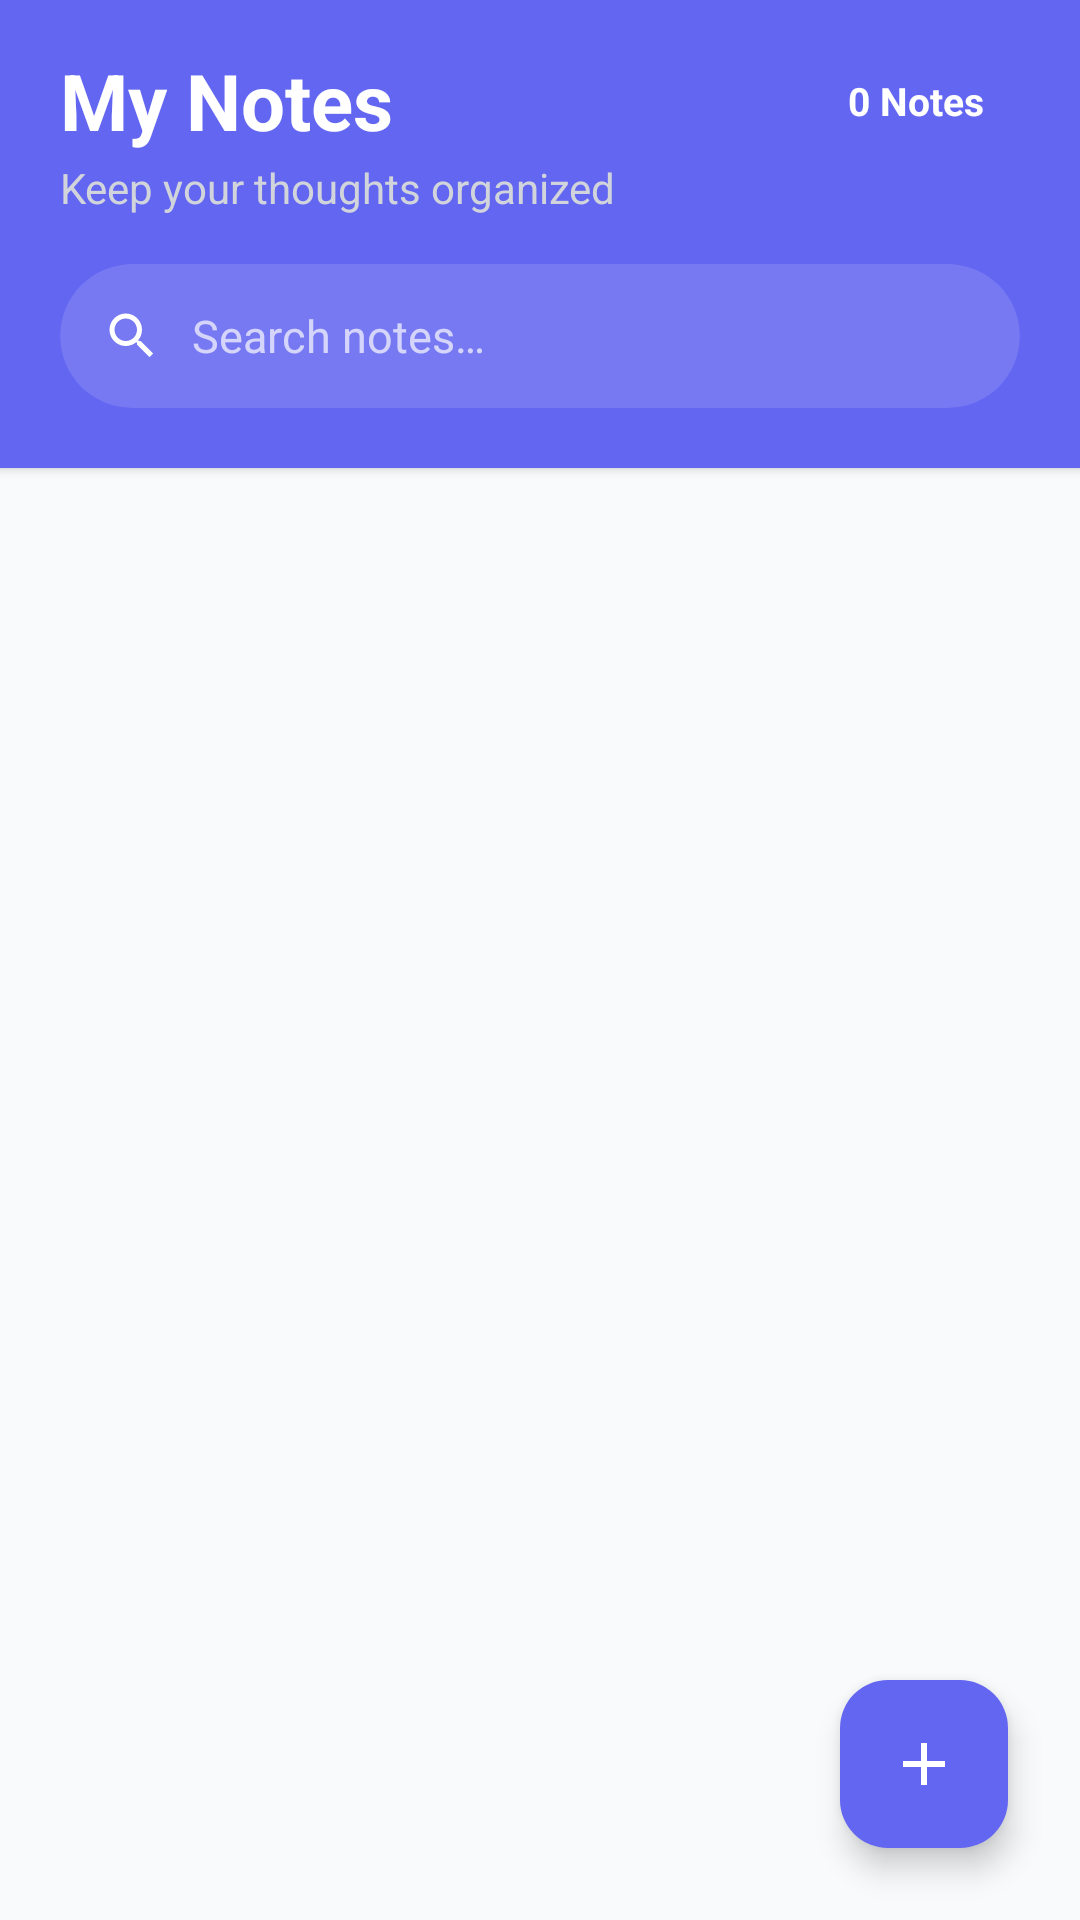

Point at icon controls on the screen. Image size 1080 × 1920, points as (x,y).
Add Note: (924,1764)
